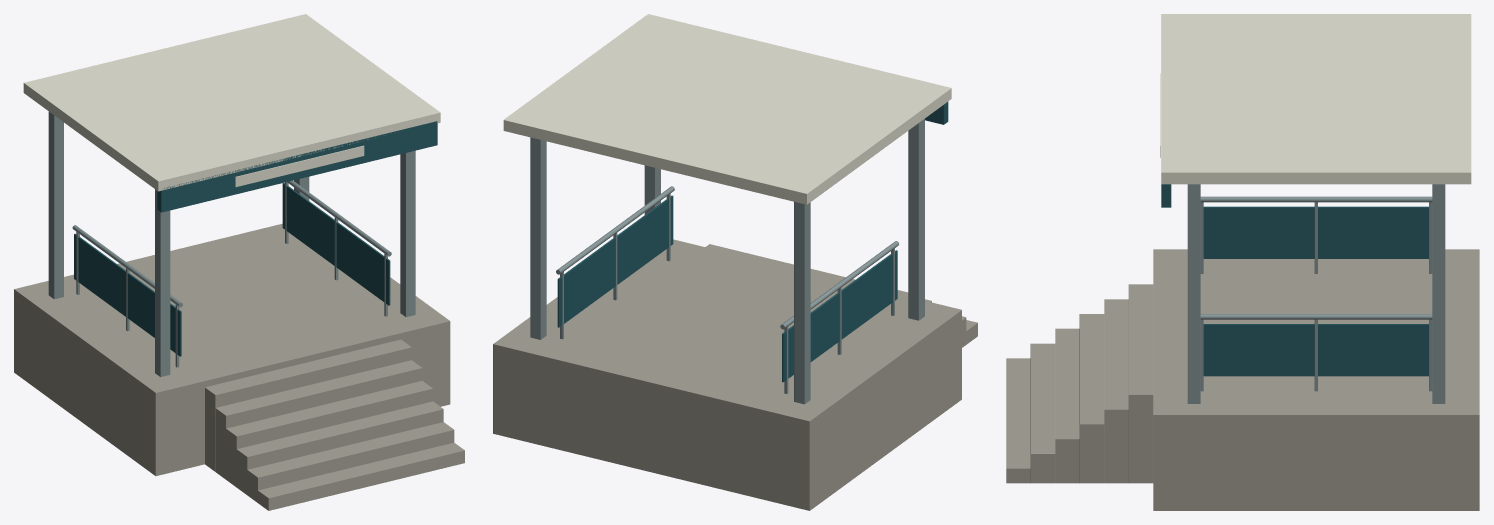
The model's file is mrt-station-entrance.glb.
3 renders of one model, left to right at view 1: azimuth 30°, elevation 25°; view 2: azimuth 150°, elevation 25°; view 3: azimuth 270°, elevation 25°, orthographic. The views are drawn at different scales.
Visible parts, largest first — view 1: Landing, Canopy_Roof, Entry_Fascia, Step_0, Step_1, Step_2, Step_3, Step_4, Infill.001, Step_5, Infill, Canopy_Column.002 (+5 smaller); view 2: Landing, Canopy_Roof, Infill.001, Infill, Canopy_Column.002, Canopy_Column, Canopy_Column.001, Handrail.001, Handrail, Step_0, Canopy_Column.003; view 3: Landing, Canopy_Roof, Infill, Infill.001, Step_0, Step_1, Step_2, Step_3, Step_4, Step_5, Canopy_Column, Canopy_Column.003 (+2 smaller).
Boxes of the visible parts, bbox=[...] form: Landing: bbox=[14, 223, 450, 475]; Canopy_Roof: bbox=[23, 14, 440, 191]; Entry_Fascia: bbox=[157, 121, 437, 212]; Step_0: bbox=[205, 339, 411, 471]; Step_1: bbox=[215, 360, 422, 479]; Step_2: bbox=[226, 380, 432, 487]; Step_3: bbox=[236, 401, 443, 494]; Step_4: bbox=[247, 422, 454, 502]; Infill.001: bbox=[282, 183, 390, 305]; Step_5: bbox=[258, 442, 464, 510]; Infill: bbox=[74, 233, 181, 356]; Canopy_Column.002: bbox=[48, 111, 63, 299]; Landing: bbox=[493, 239, 961, 510]; Canopy_Roof: bbox=[503, 14, 951, 204]; Infill.001: bbox=[557, 195, 673, 327]; Infill: bbox=[782, 250, 897, 382]; Canopy_Column.002: bbox=[794, 202, 810, 404]; Canopy_Column: bbox=[530, 137, 546, 339]; Canopy_Column.001: bbox=[908, 119, 924, 320]; Handrail.001: bbox=[556, 186, 674, 274]; Handrail: bbox=[780, 241, 898, 329]; Step_0: bbox=[705, 244, 908, 296]; Canopy_Column.003: bbox=[644, 165, 660, 214]; Landing: bbox=[1153, 249, 1479, 510]; Canopy_Roof: bbox=[1161, 14, 1471, 184]; Infill: bbox=[1203, 206, 1428, 258]; Infill.001: bbox=[1203, 324, 1428, 376]; Step_0: bbox=[1128, 284, 1153, 483]; Step_1: bbox=[1104, 299, 1128, 483]; Step_2: bbox=[1079, 314, 1104, 483]; Step_3: bbox=[1055, 328, 1079, 483]; Step_4: bbox=[1030, 343, 1055, 483]; Step_5: bbox=[1006, 358, 1030, 483]; Canopy_Column: bbox=[1432, 184, 1445, 403]; Canopy_Column.003: bbox=[1187, 184, 1200, 403].
Size of the model in its own units: 4.8 by 4.53 by 5.8.
